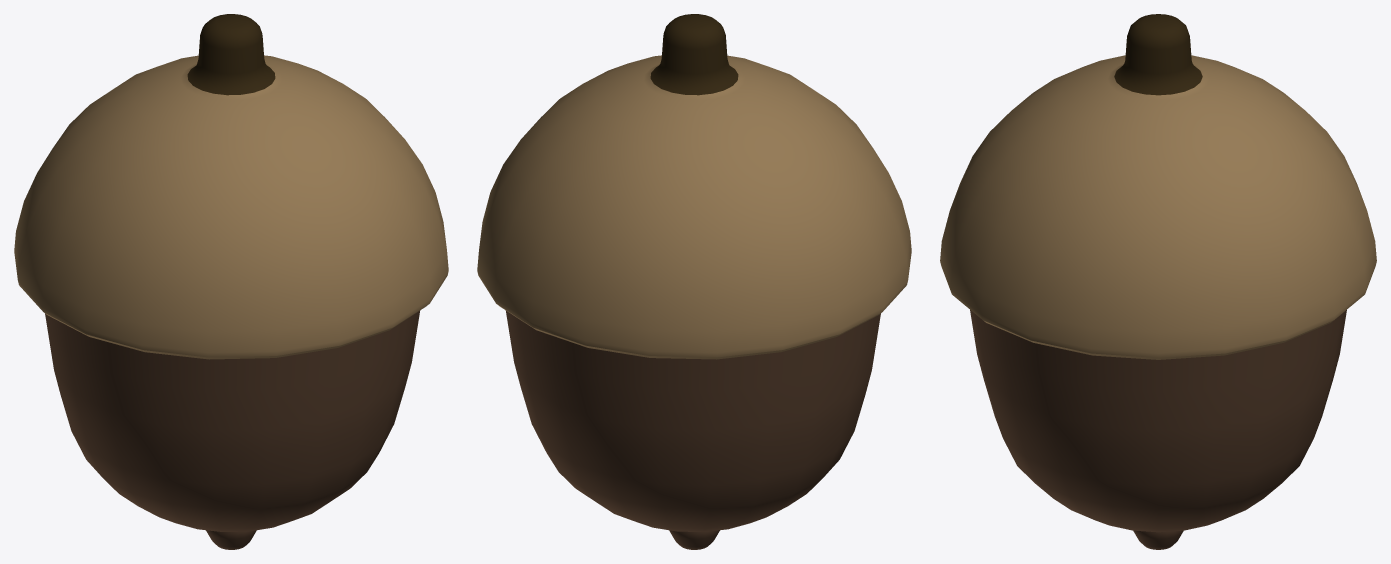
The model's file is AcornMesh.fbx.
3 views of the same model, side by side, from view 1: azimuth 30°, elevation 25°; view 2: azimuth 150°, elevation 25°; view 3: azimuth 270°, elevation 25° (orthographic).
Visible parts, largest first — view 1: pSphere1; view 2: pSphere1; view 3: pSphere1.
Boxes of the visible parts, box(x1,y1,x2,y2) form: pSphere1: box(14, 14, 448, 549); pSphere1: box(477, 14, 911, 549); pSphere1: box(940, 14, 1376, 549).
Bounding box in the file's own units: 13 × 17.27 × 13.
